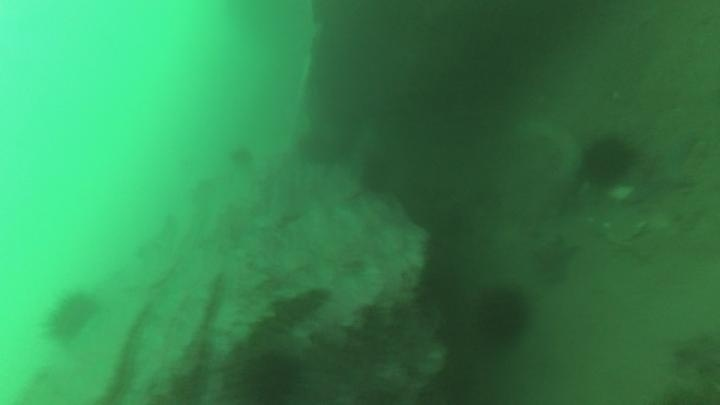echinus: (234, 347, 306, 404), (471, 283, 533, 349), (42, 287, 102, 344), (579, 134, 637, 188), (357, 153, 397, 198), (227, 143, 256, 169)
starfish: (625, 125, 701, 202), (516, 115, 586, 182), (530, 234, 580, 285)
